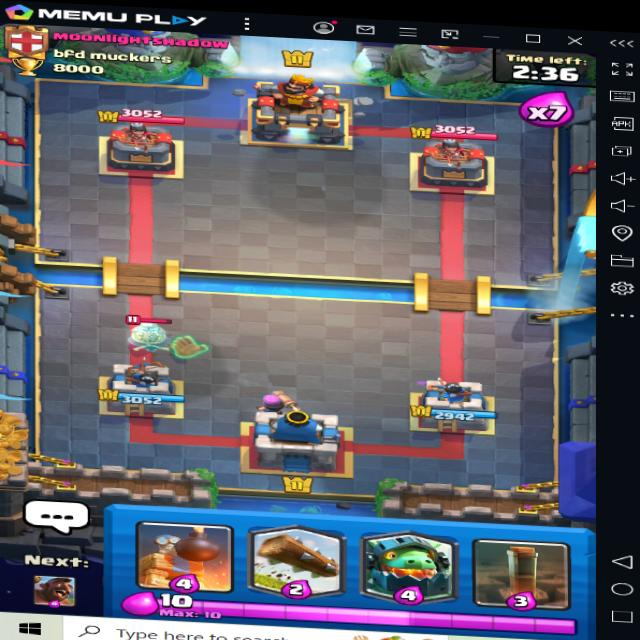monk: (109, 308, 182, 356)
monk-ability: (114, 310, 210, 363)
